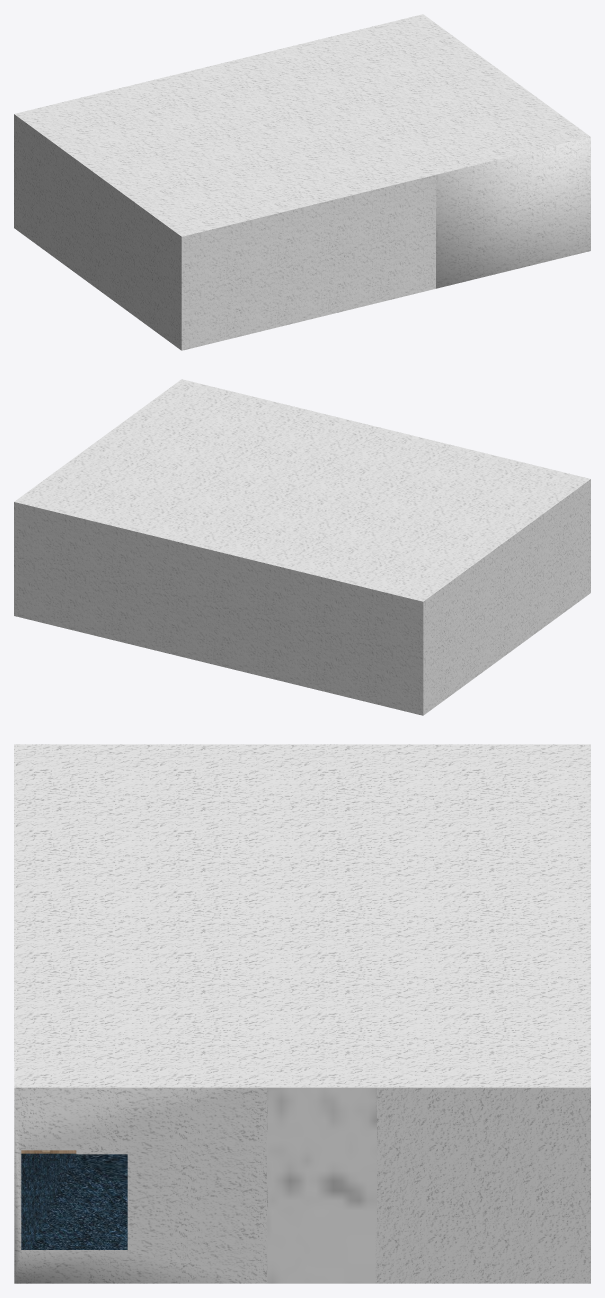
File: walls-and-floor.dae
3 renders of one model, top to bottom at view 1: azimuth 30°, elevation 25°; view 2: azimuth 150°, elevation 25°; view 3: azimuth 270°, elevation 25°, orthographic. The views are drawn at different scales.
Visible parts, largest first — view 1: Plane_002_001; view 2: Plane_002_001; view 3: Plane_002_001.
Boxes of the visible parts, x1,y1,x2,y2 form: Plane_002_001: (14, 14, 590, 350); Plane_002_001: (14, 379, 590, 715); Plane_002_001: (14, 744, 590, 1283).
Bounding box in the file's own units: 11.27 × 8 × 3.
Materials: 5 (5 with a texture image).
